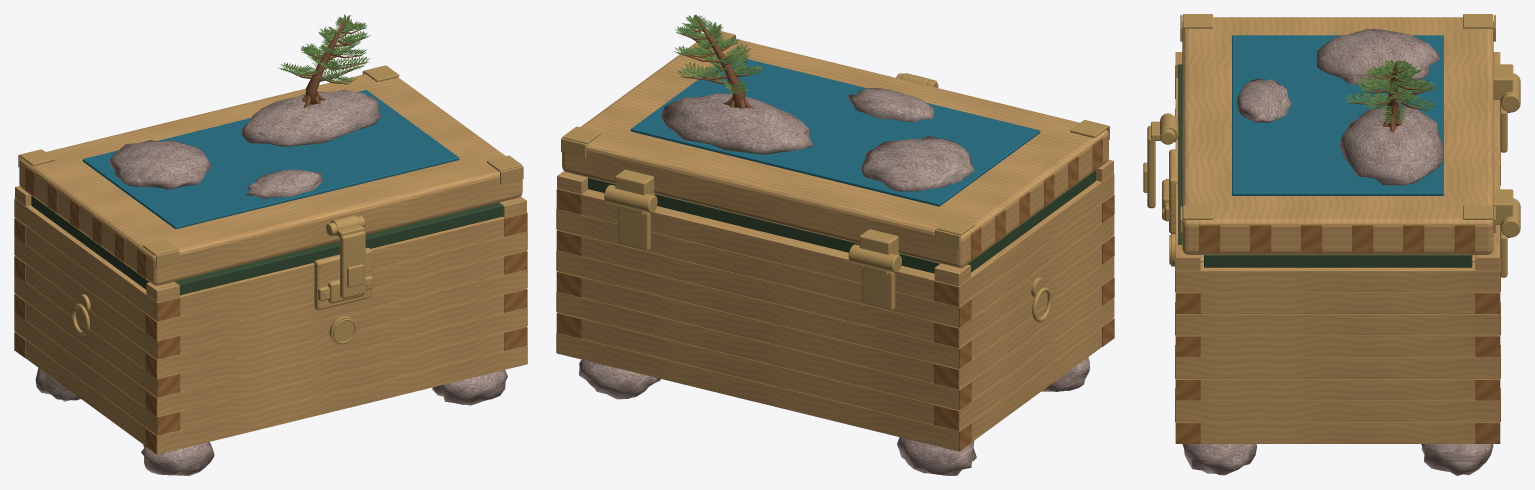
File: canada.glb
3 views of the same model, side by side, from view 1: azimuth 30°, elevation 25°; view 2: azimuth 150°, elevation 25°; view 3: azimuth 270°, elevation 25° (orthographic). The views are drawn at different scales.
Visible parts, largest first — view 1: Lid / polished slab, Shield lake / inlay, Maple / front course 0, Maple / front course 2, Maple / front course 4, Maple / front course 1, Maple / front course 3, Maple / front course 6, Maple / front course 5, Maple / front course 7, Shield shore / rear right, Mineral seam / long (+23 smaller); view 2: Lid / polished slab, Shield lake / inlay, Maple / rear course 0, Maple / rear course 2, Maple / rear course 4, Maple / rear course 7, Maple / rear course 3, Maple / rear course 5, Maple / rear course 1, Maple / rear course 6, Shield shore / rear right, Shield shore / left (+26 smaller); view 3: Lid / polished slab, Shield lake / inlay, Maple / side course 7.001, Maple / side course 1.001, Maple / side course 3.001, Maple / side course 5.001, Maple / side course 4.001, Shield shore / rear right, Maple / side course 0.001, Maple / side course 2.001, Maple / side course 6.001, Shield shore / left (+37 smaller).
Part boxes in pixels (left/top/right/bottom): Lid / polished slab: left=19, top=74, right=522, bottom=285; Shield lake / inlay: left=82, top=90, right=459, bottom=229; Maple / front course 0: left=146, top=345, right=526, bottom=454; Maple / front course 2: left=146, top=307, right=526, bottom=416; Maple / front course 4: left=146, top=269, right=526, bottom=378; Maple / front course 1: left=180, top=332, right=504, bottom=429; Maple / front course 3: left=180, top=294, right=504, bottom=391; Maple / front course 6: left=146, top=231, right=526, bottom=340; Maple / front course 5: left=180, top=256, right=504, bottom=353; Maple / front course 7: left=180, top=217, right=504, bottom=315; Shield shore / rear right: left=240, top=90, right=381, bottom=146; Mineral seam / long: left=174, top=202, right=503, bottom=295; Lid / polished slab: left=562, top=39, right=1108, bottom=267; Shield lake / inlay: left=630, top=57, right=1040, bottom=206; Maple / rear course 0: left=557, top=333, right=970, bottom=451; Maple / rear course 2: left=557, top=292, right=970, bottom=410; Maple / rear course 4: left=557, top=250, right=970, bottom=368; Maple / rear course 7: left=582, top=189, right=934, bottom=300; Maple / rear course 3: left=582, top=277, right=934, bottom=383; Maple / rear course 5: left=582, top=236, right=934, bottom=342; Maple / rear course 1: left=582, top=318, right=934, bottom=424; Maple / rear course 6: left=557, top=209, right=970, bottom=327; Shield shore / rear right: left=661, top=93, right=813, bottom=154; Shield shore / left: left=860, top=136, right=974, bottom=191; Lid / polished slab: left=1182, top=17, right=1493, bottom=254; Shield lake / inlay: left=1232, top=35, right=1443, bottom=195; Maple / side course 7.001: left=1175, top=262, right=1500, bottom=292; Maple / side course 1.001: left=1176, top=400, right=1500, bottom=422; Maple / side course 3.001: left=1176, top=357, right=1500, bottom=378; Maple / side course 5.001: left=1176, top=314, right=1500, bottom=335; Maple / side course 4.001: left=1200, top=335, right=1475, bottom=357; Shield shore / rear right: left=1339, top=105, right=1443, bottom=185; Maple / side course 0.001: left=1200, top=422, right=1475, bottom=443; Maple / side course 2.001: left=1200, top=379, right=1475, bottom=400; Maple / side course 6.001: left=1200, top=292, right=1475, bottom=313; Shield shore / left: left=1317, top=29, right=1439, bottom=84.
Bounding box in the file's own units: 3.79 × 3.24 × 2.88.
Materials: 11 (3 with a texture image).
